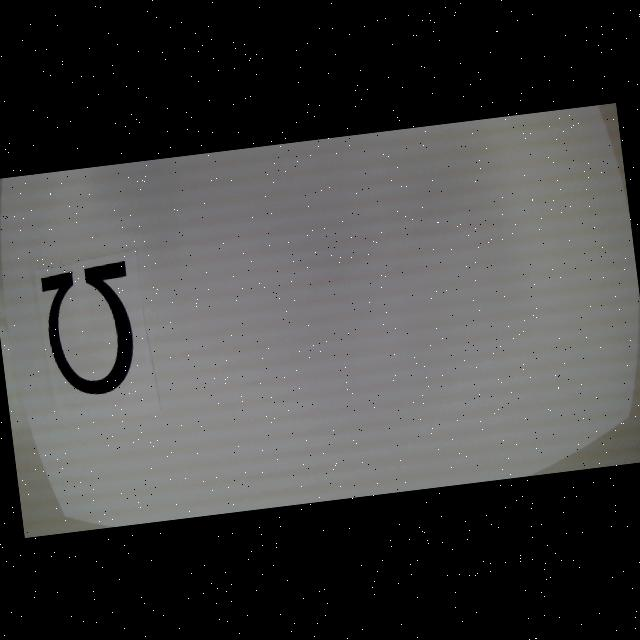OMEGA: (40, 260, 142, 398)
